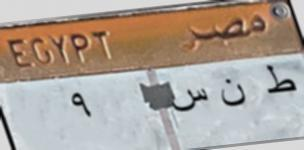9: (66, 86, 95, 125)
Taa: (261, 58, 298, 104)
noon: (216, 75, 250, 111)
seen: (167, 84, 211, 117)
